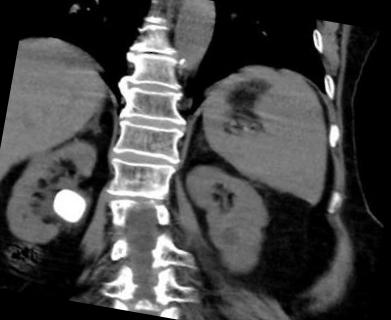Tas_Var: (48, 180, 90, 229)
